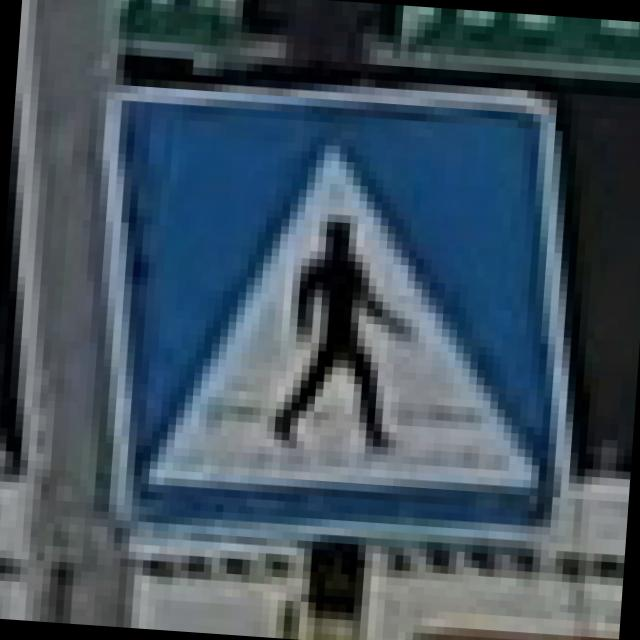zebracrossing_sign: (70, 53, 596, 551)
